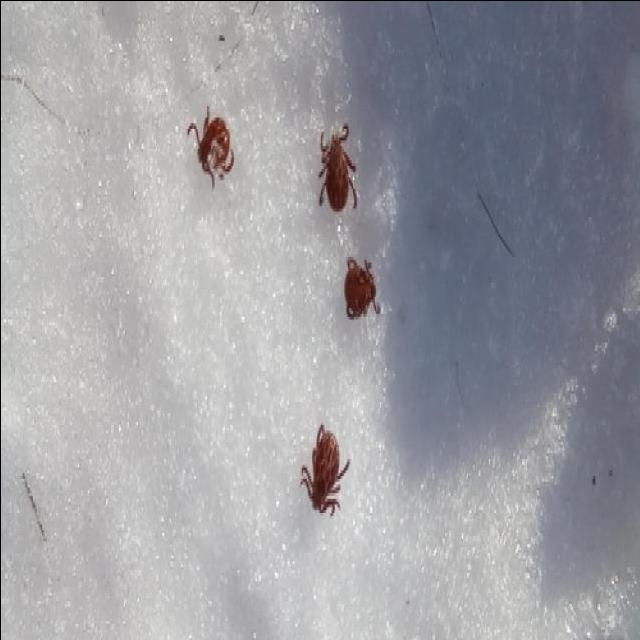Dermacentor Reticulatus-M: (297, 424, 352, 515), (315, 119, 358, 225)
